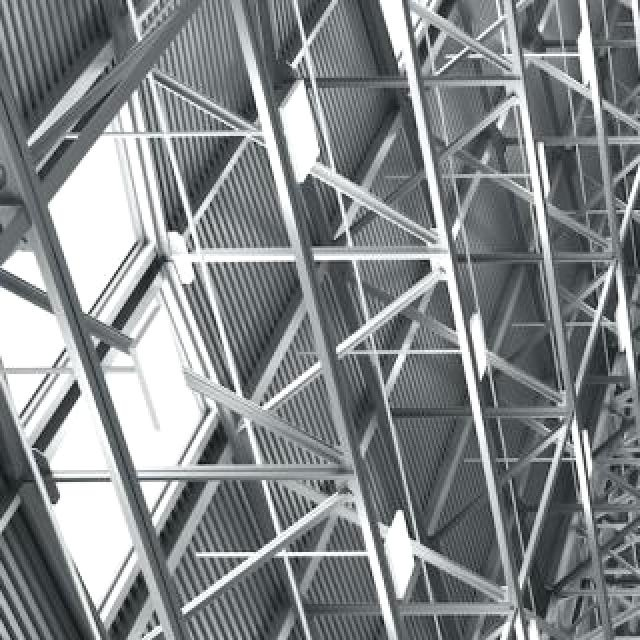fluorescent tube: (536, 120, 556, 200), (612, 280, 632, 356), (582, 407, 602, 475)
